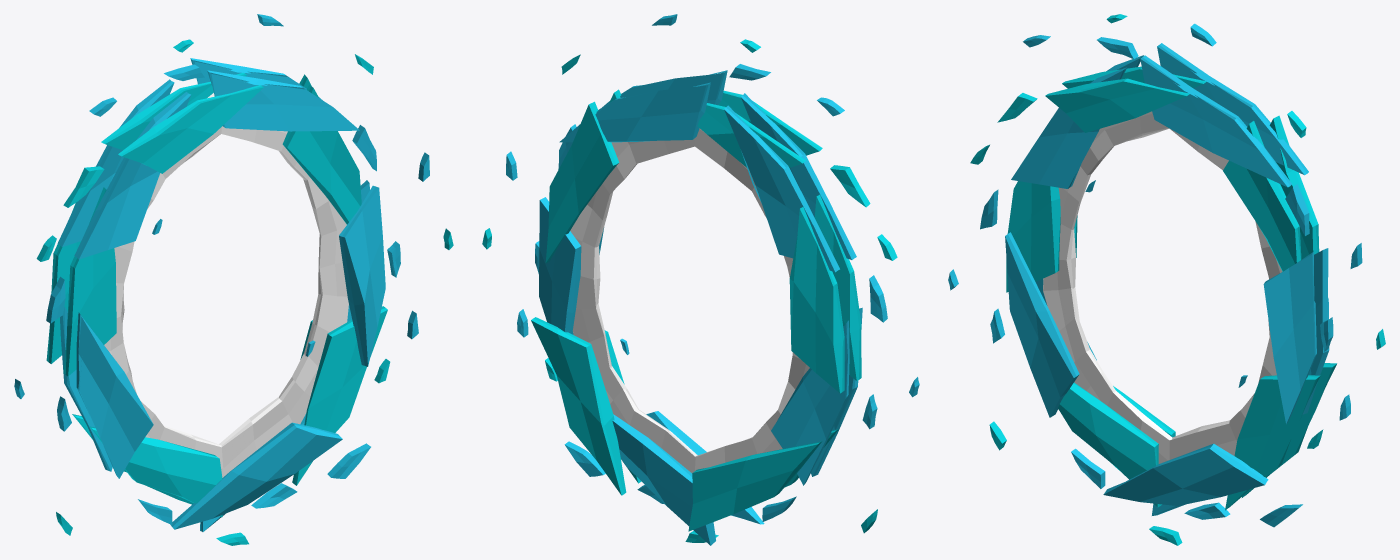
3 views of the same model, side by side, from view 1: azimuth 30°, elevation 25°; view 2: azimuth 150°, elevation 25°; view 3: azimuth 330°, elevation 25° (orthographic).
Parts seen in each view (by area): view 1: portel_Plane.005; view 2: portel_Plane.005; view 3: portel_Plane.005.
Part boxes in pixels (box(x1,y1,x2,y2)): portel_Plane.005: box(14, 14, 453, 545); portel_Plane.005: box(482, 14, 919, 545); portel_Plane.005: box(948, 14, 1385, 545).
Bounding box in the file's own units: 13.72 × 15.81 × 2.06.
